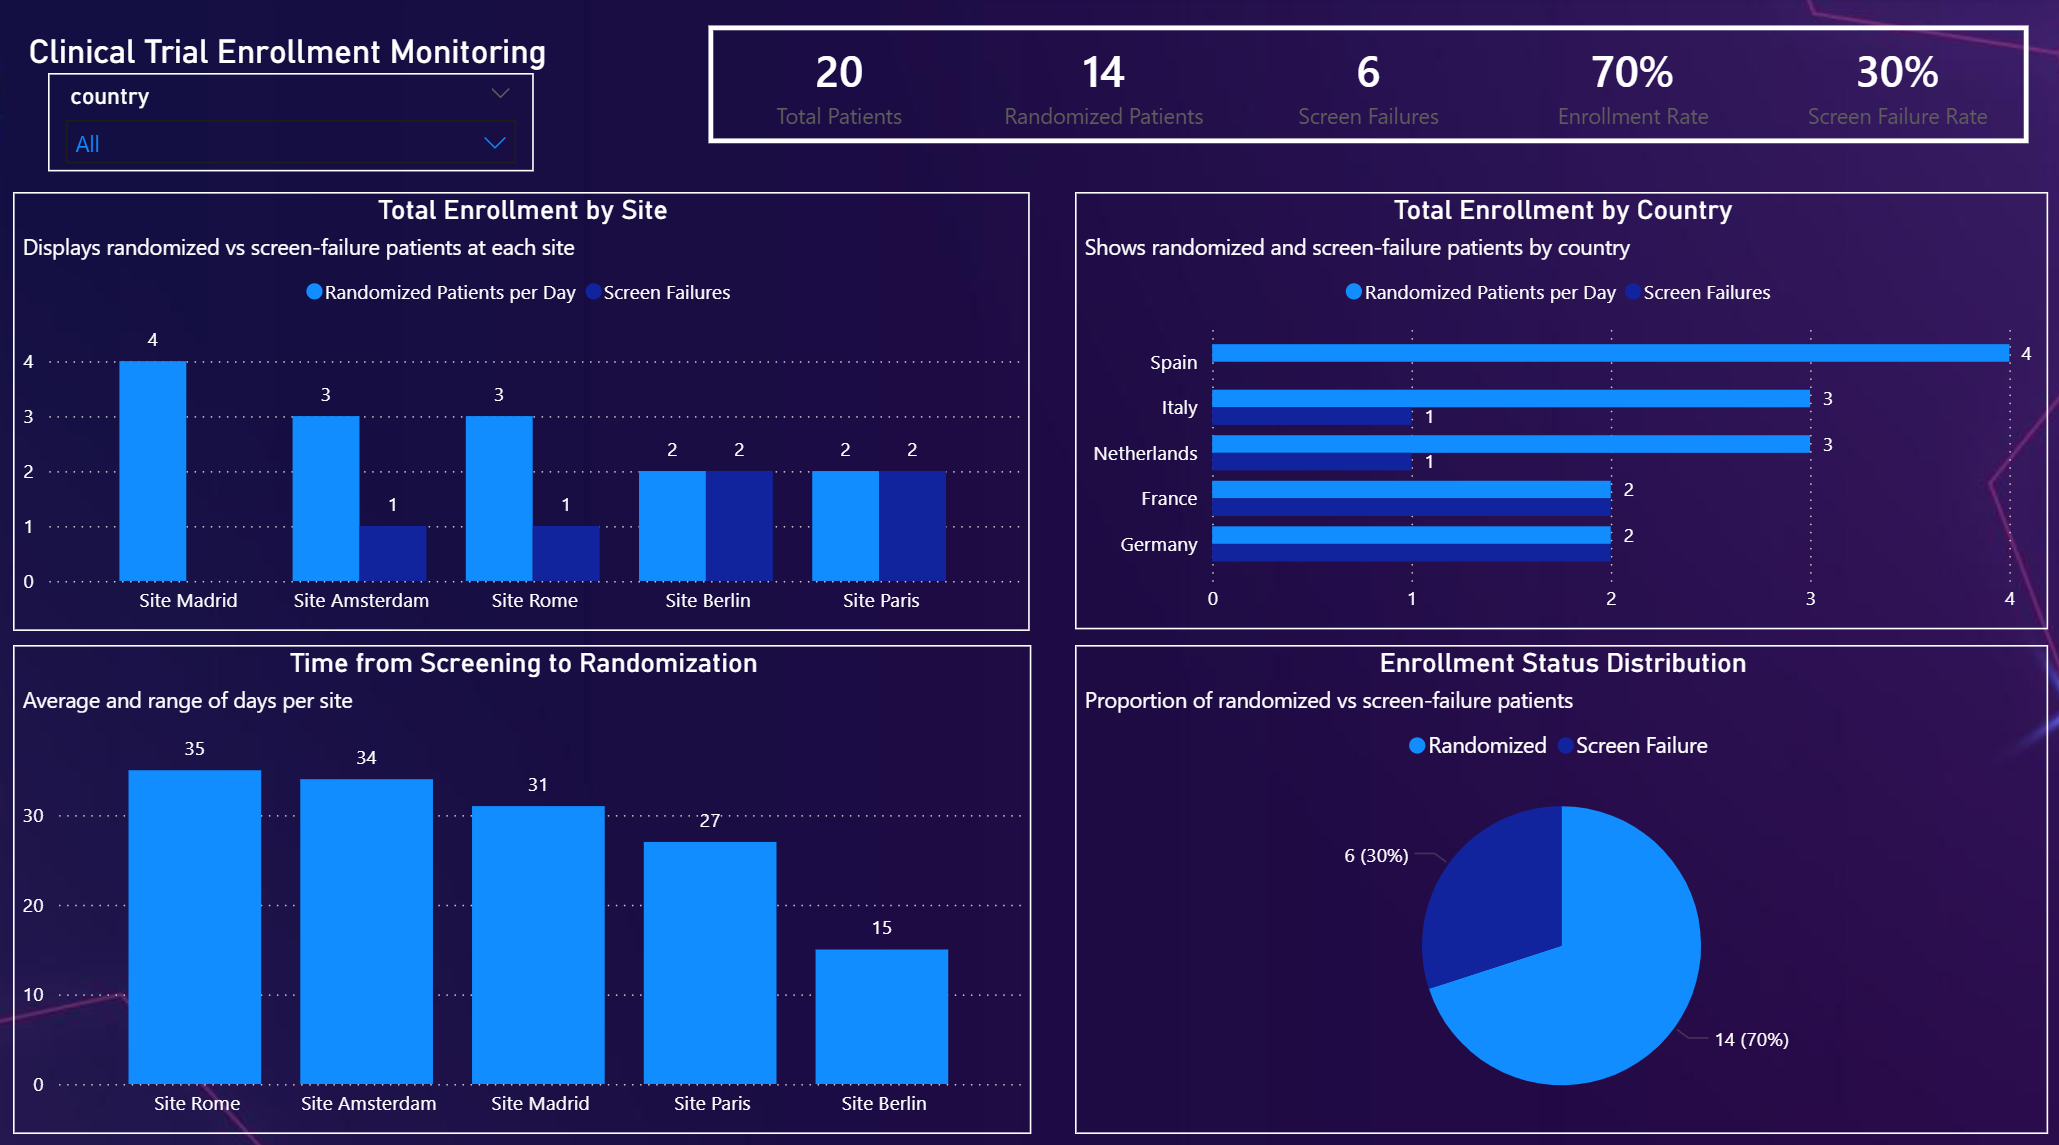

Layout of this report page (visuals, bound fields, positions):
{"tool":"powerbi","page":{"name":"Clinical Trial Enrollment","canvas":[1280,720],"ordinal":0},"visuals":[{"type":"cardVisual","fields":{"Data":["clean_patients.Total Patients","clean_patients.Randomized Patients","clean_patients.Screen Failures","clean_patients.Enrollment Rate","clean_patients.Screen Failure Rate"]},"box":[423.8,0,856.2,107.2],"z":0},{"type":"clusteredColumnChart","title":"Total Enrollment by Site","fields":{"Category":["clean_sites.site_name"],"Y":["clean_patients.Randomized Patients","clean_patients.Screen Failures"]},"box":[10,120,630,272],"z":1000},{"type":"clusteredBarChart","title":"Total Enrollment by Country","fields":{"Category":["clean_patients.country"],"Y":["clean_patients.Randomized Patients","clean_patients.Screen Failures"]},"box":[668,120,603,271],"z":2000},{"type":"textbox","title":"Clinical Trial Enrollment Monitoring Dashboard","box":[14.9,21.1,392.2,25.4],"z":3000},{"type":"clusteredColumnChart","title":"Time from Screening to Randomization","fields":{"Category":["clean_sites.site_name"],"Y":["Sum(clean_patients.screen_to_random_days)"]},"box":[10,401,631,303],"z":4000},{"type":"pieChart","title":"Enrollment Status Distribution","fields":{"Category":["clean_patients.Enrollment Status"],"Y":["CountNonNull(clean_patients.patient_id)"]},"box":[668,401,603,303],"z":5000},{"type":"slicer","fields":{"Values":["clean_sites.country"]},"box":[31.6,46.5,300.5,61.3],"z":5001}]}

Visuals, with their boxes in screenshot pixels (x1, y1, x2, y2), scaled from the page's 1280x720 canvas onto the 2059x1145 screenshot:
cardVisual - clean_patients.Total Patients x clean_patients.Randomized Patients: [x1=682, y1=0, x2=2058, y2=170]
"Total Enrollment by Site" clusteredColumnChart: [x1=16, y1=191, x2=1030, y2=623]
"Total Enrollment by Country" clusteredBarChart: [x1=1075, y1=191, x2=2045, y2=622]
"Clinical Trial Enrollment Monitoring Dashboard" textbox: [x1=24, y1=34, x2=655, y2=74]
"Time from Screening to Randomization" clusteredColumnChart: [x1=16, y1=638, x2=1031, y2=1120]
"Enrollment Status Distribution" pieChart: [x1=1075, y1=638, x2=2045, y2=1120]
slicer - clean_sites.country: [x1=51, y1=74, x2=534, y2=171]
